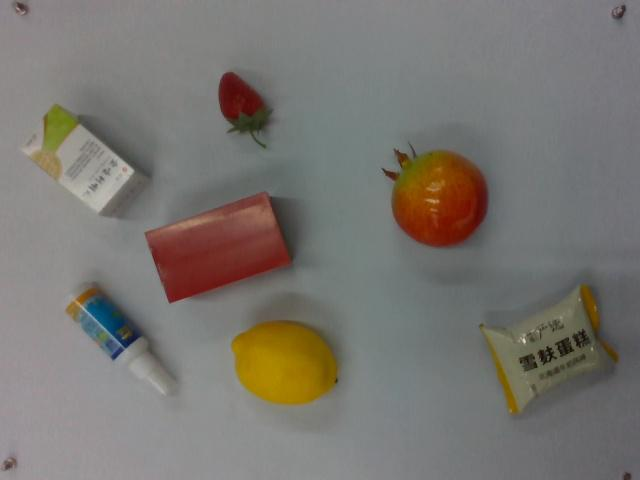cuboid: (144, 190, 297, 305), (21, 103, 149, 217)
dessert: (484, 281, 616, 423)
detergent: (65, 279, 178, 401)
lemon: (228, 319, 342, 401)
pomegranate: (380, 141, 491, 247)
strawberry: (217, 69, 274, 149)
